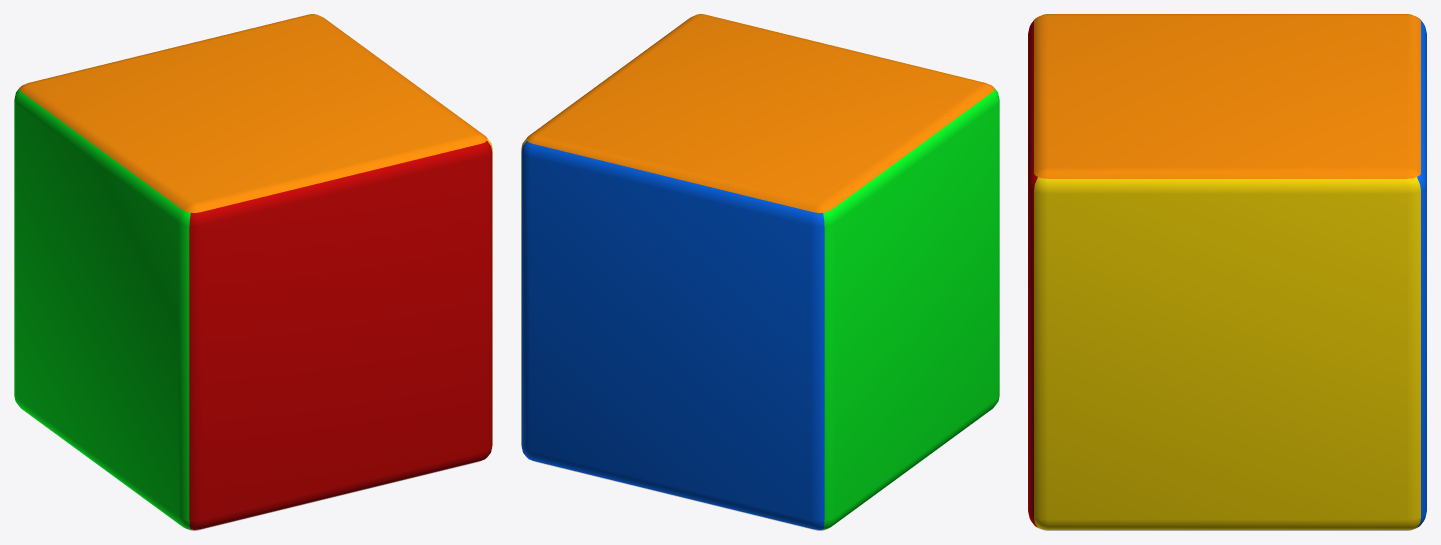
File: cube_colorful.fbx
The picture shows the model from 3 angles, left to right: view 1: azimuth 30°, elevation 25°; view 2: azimuth 150°, elevation 25°; view 3: azimuth 270°, elevation 25°; orthographic projection. The views are drawn at different scales.
Parts seen in each view (by area): view 1: Cube_1; view 2: Cube_1; view 3: Cube_1.
Boxes of the visible parts, x1,y1,x2,y2 form: Cube_1: [14, 14, 492, 530]; Cube_1: [521, 14, 999, 530]; Cube_1: [1028, 14, 1426, 530].
Bounding box in the file's own units: 200 × 200 × 200.
